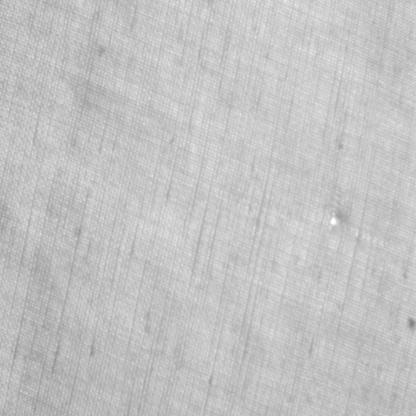hole: (330, 213, 338, 229)
